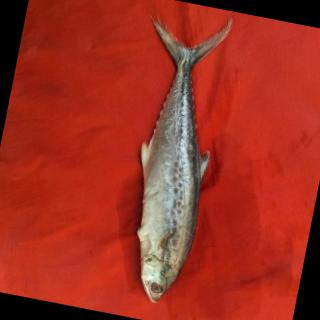Ikan: (83, 1, 262, 318)
